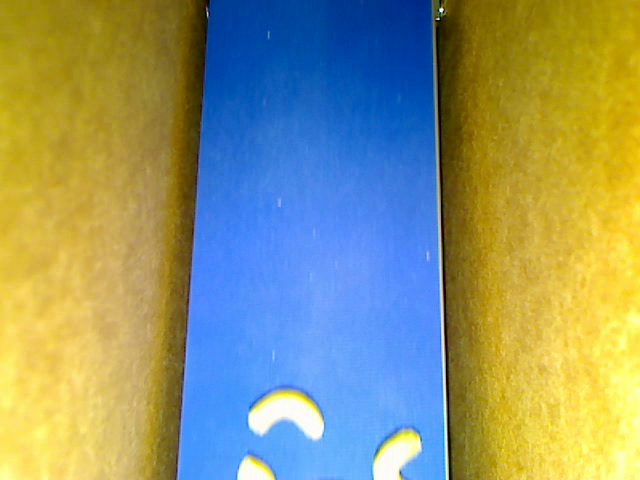elbow: (248, 387, 324, 441), (372, 427, 422, 479), (235, 454, 275, 479)
